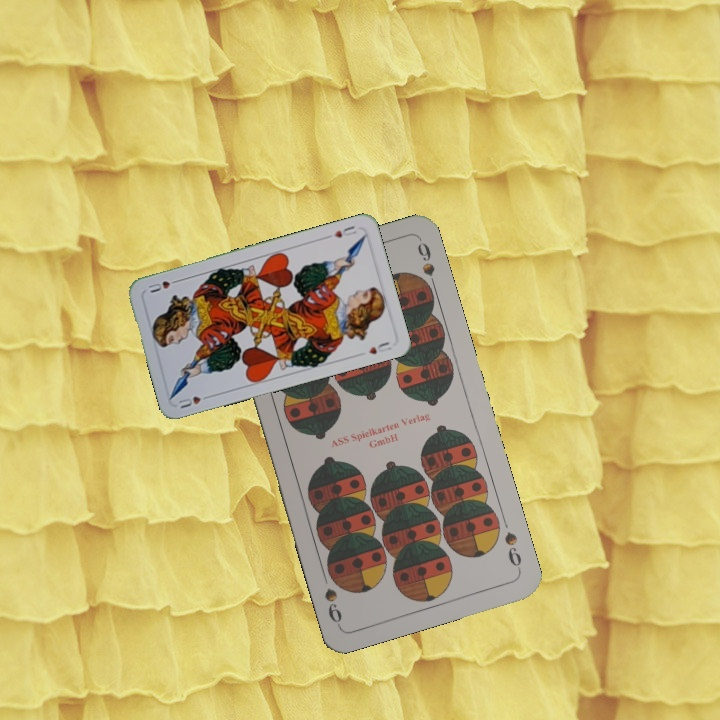HU: (174, 391, 214, 411), (322, 222, 359, 241)
S9: (500, 527, 524, 574)
